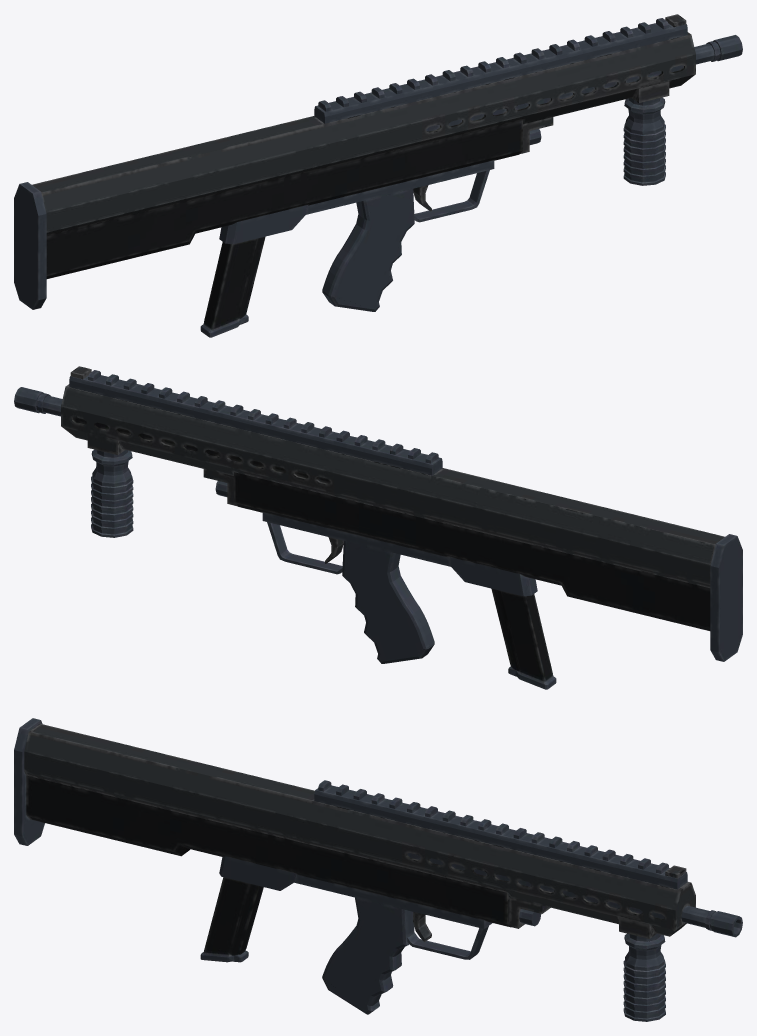
The model's file is aug.glb.
The picture shows the model from 3 angles, top to bottom: view 1: azimuth 30°, elevation 25°; view 2: azimuth 150°, elevation 25°; view 3: azimuth 330°, elevation 25°; orthographic projection.
Visible parts, largest first — view 1: Body, Magazine; view 2: Body, Magazine; view 3: Body, Magazine.
Boxes of the visible parts, x1,y1,x2,y2 form: Body: (14,14,742,311); Magazine: (200,236,265,337); Body: (14,366,742,663); Magazine: (491,588,556,689); Body: (14,718,742,1021); Magazine: (200,877,263,962).
Size of the model in its own units: 5.25 by 1.54 by 0.3103.
1 material, 1 textured.
